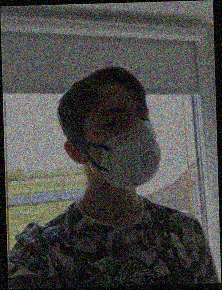with_mask: (92, 96, 160, 190)
